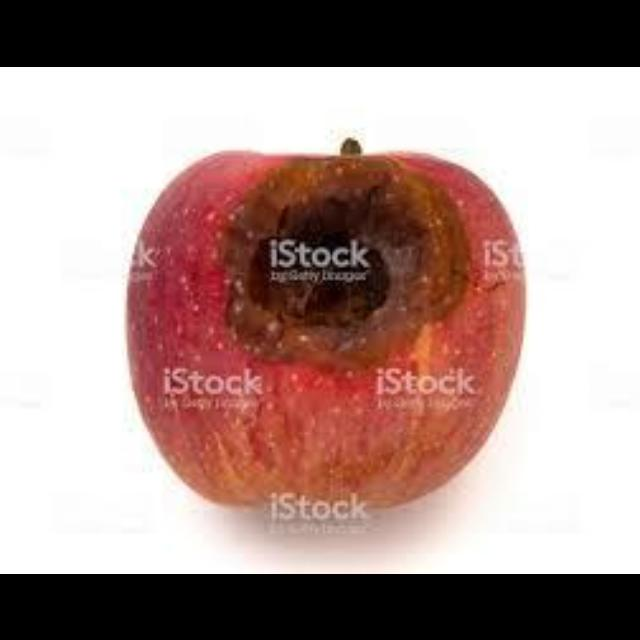apple: (122, 137, 523, 523)
pest: (255, 230, 396, 329)
rotten: (224, 159, 468, 374)
